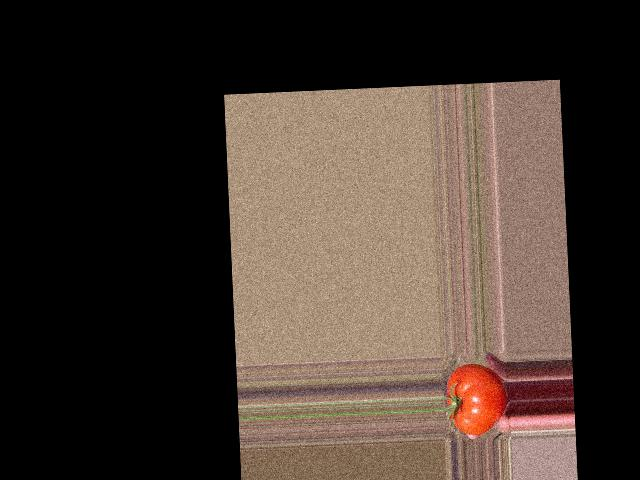tomato: (445, 363, 508, 436)
